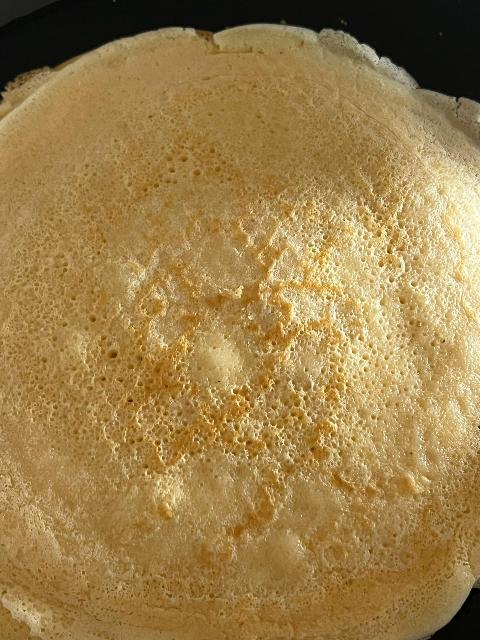Organik: (0, 42, 480, 640)
